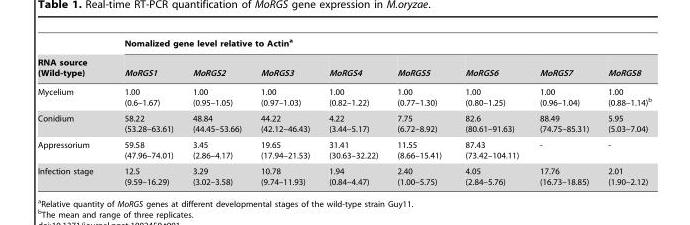table: (37, 37, 651, 186)
table column: (452, 37, 528, 186), (107, 37, 182, 186), (37, 37, 107, 186), (528, 37, 597, 186), (182, 37, 250, 186), (250, 37, 318, 186), (318, 37, 386, 186), (386, 37, 452, 186), (597, 37, 651, 186)
table column header: (37, 37, 651, 82)
table row: (37, 52, 651, 82), (37, 82, 651, 110), (37, 136, 651, 163), (37, 110, 651, 136), (37, 163, 651, 186), (37, 37, 651, 52)
table spanning cell: (107, 37, 651, 52), (37, 37, 107, 82)
